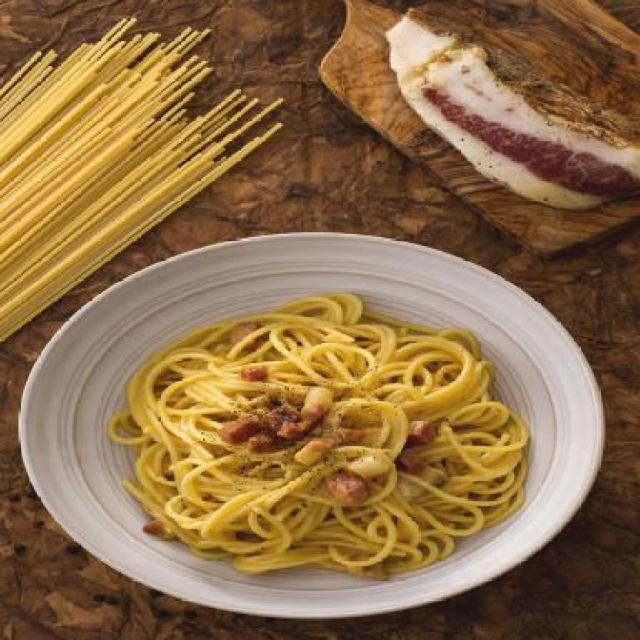Pasta with carbonara sauce: (62, 282, 544, 584)
